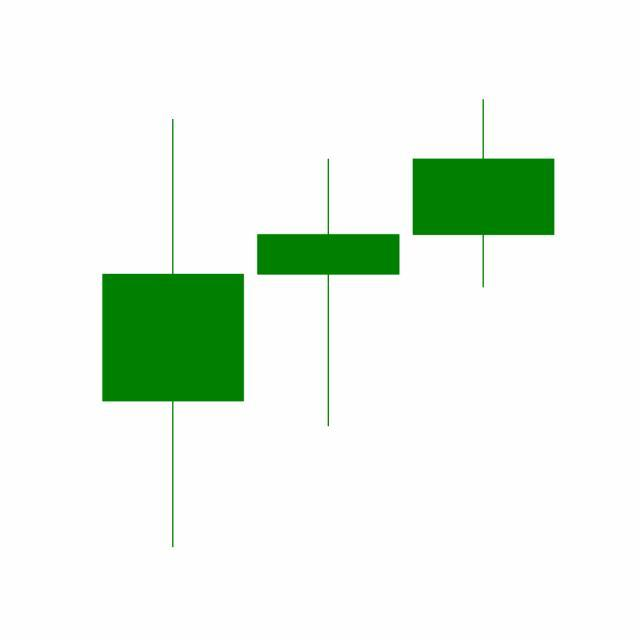Hanging Man: (250, 157, 407, 431)
